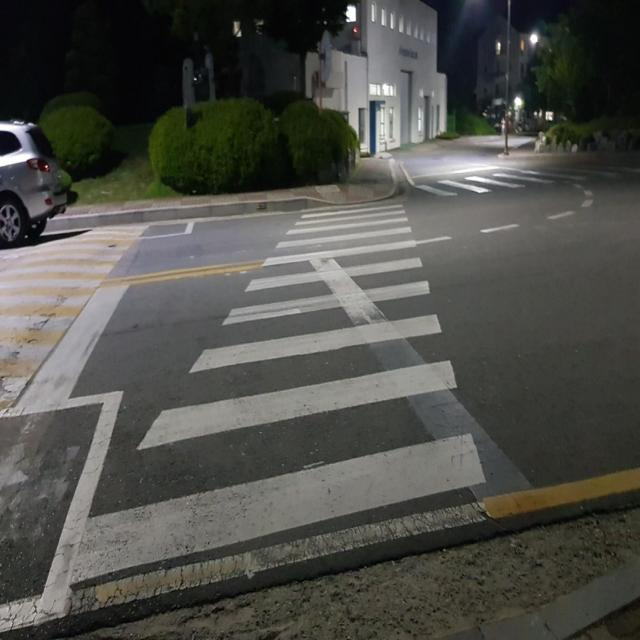횡단보도: (68, 201, 488, 588), (407, 173, 590, 195)
